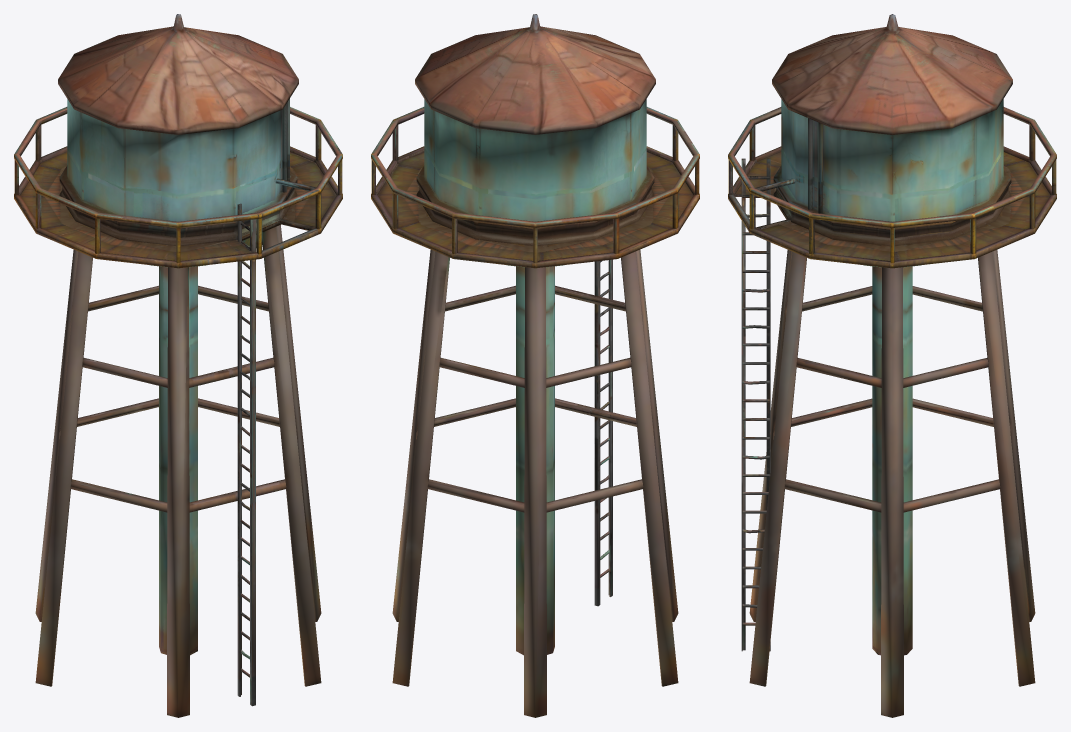
File: water_tower.fbx
3 renders of one model, left to right at view 1: azimuth 30°, elevation 25°; view 2: azimuth 150°, elevation 25°; view 3: azimuth 270°, elevation 25°, orthographic.
Parts seen in each view (by area): view 1: input; view 2: input; view 3: input.
Part boxes in pixels (x1,y1,x2,y2): input: (14,14,342,717); input: (371,14,699,717); input: (728,14,1056,717).
Size of the model in its own units: 94.12 by 200 by 93.82.
Materials: 1 (1 with a texture image).
